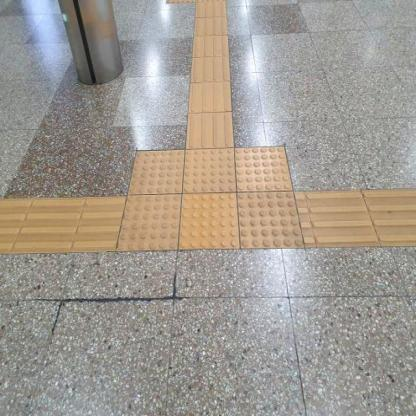podotacti: (106, 116, 327, 301), (184, 0, 234, 146), (0, 197, 127, 251), (296, 191, 415, 248)
